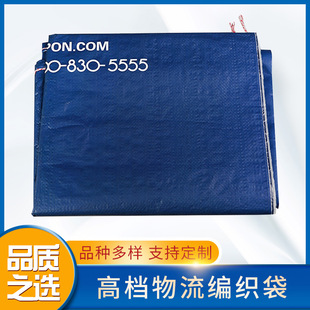塑料袋: (32, 33, 278, 215)
